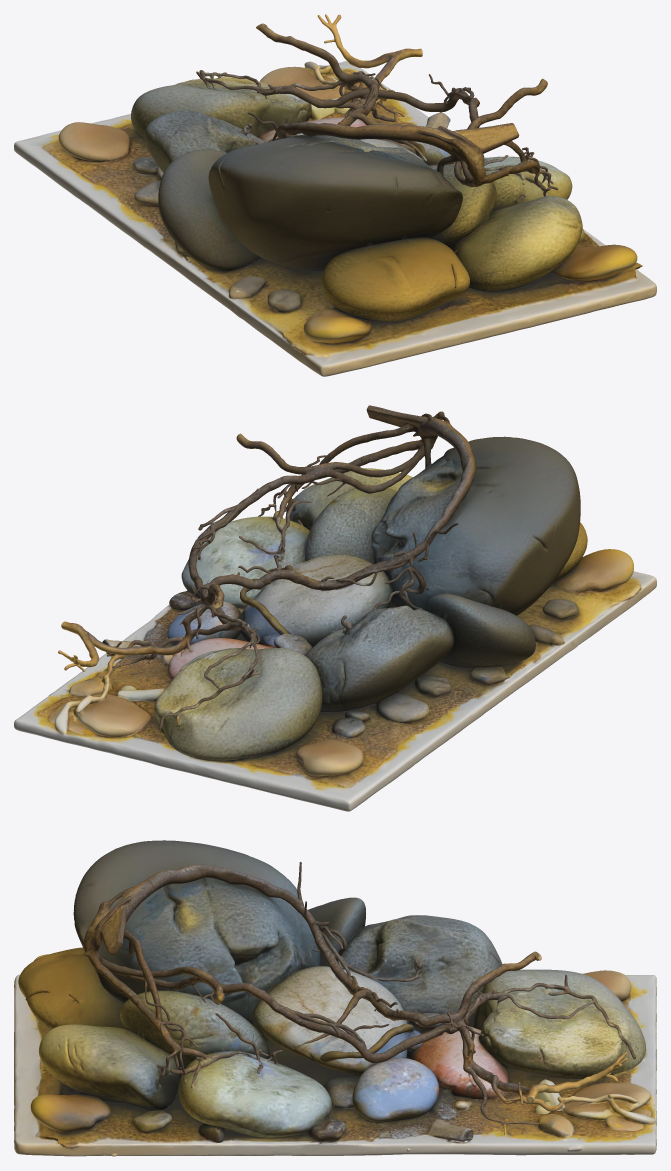
The model's file is cuoiver1-v4.glb.
The picture shows the model from 3 angles, top to bottom: view 1: azimuth 30°, elevation 25°; view 2: azimuth 150°, elevation 25°; view 3: azimuth 270°, elevation 25°; orthographic projection. The views are drawn at different scales.
Visible parts, largest first — view 1: tripo_node_cdb2904c-9b4b-4dab-8543-aa7407adcbae; view 2: tripo_node_cdb2904c-9b4b-4dab-8543-aa7407adcbae; view 3: tripo_node_cdb2904c-9b4b-4dab-8543-aa7407adcbae.
Boxes of the visible parts, x1,y1,x2,y2 form: tripo_node_cdb2904c-9b4b-4dab-8543-aa7407adcbae: (14, 14, 656, 376); tripo_node_cdb2904c-9b4b-4dab-8543-aa7407adcbae: (14, 405, 656, 811); tripo_node_cdb2904c-9b4b-4dab-8543-aa7407adcbae: (14, 840, 656, 1156).
Bounding box in the file's own units: 0.6736 × 0.3054 × 0.9999.
Materials: 1 (1 with a texture image).
